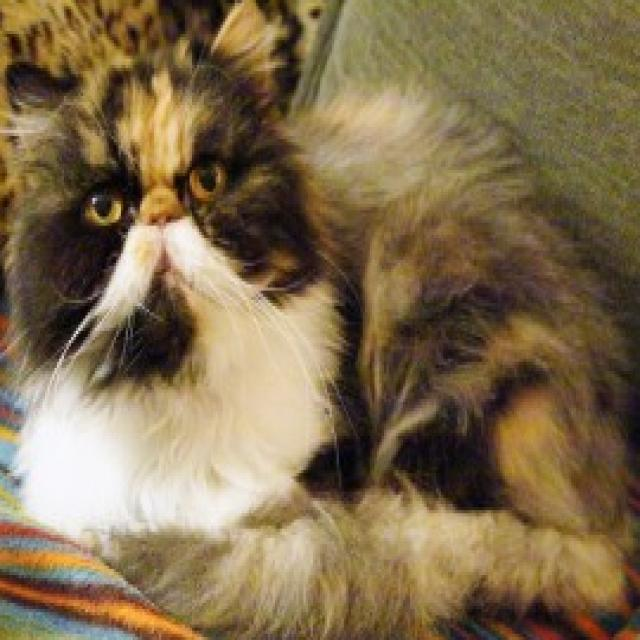Persian: (0, 0, 631, 640)
